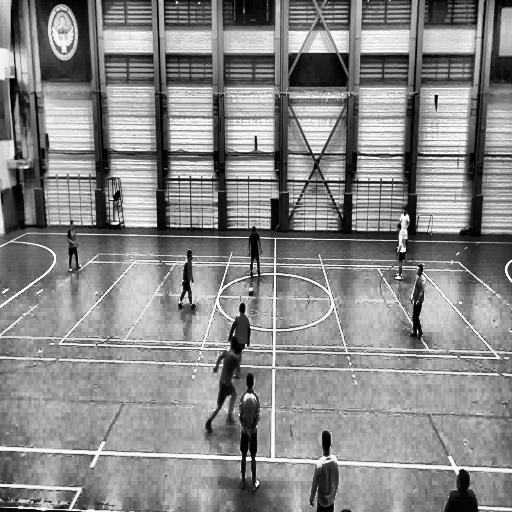ball: (249, 287, 254, 295)
player: (206, 340, 242, 432), (239, 372, 261, 489), (309, 429, 338, 512), (178, 249, 199, 312), (410, 265, 425, 341), (394, 222, 406, 282), (249, 226, 262, 279), (69, 221, 82, 271), (399, 206, 410, 250)
